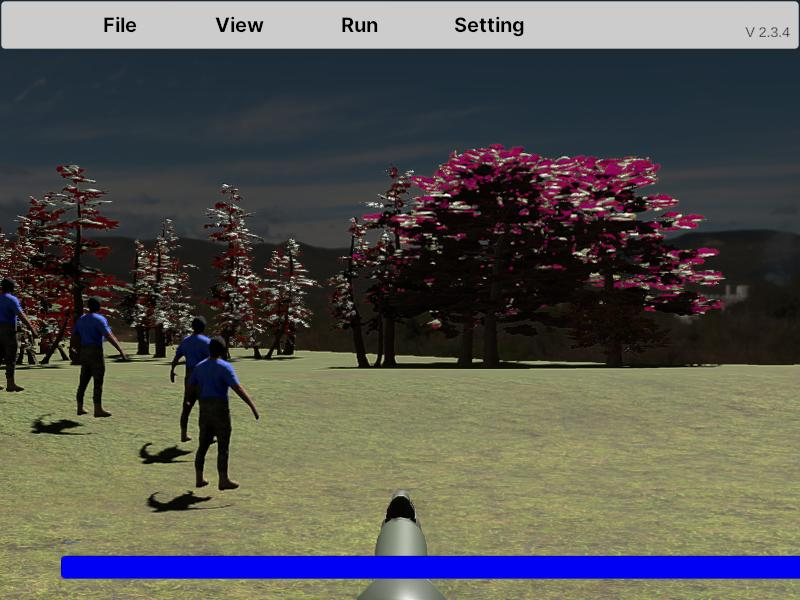Human: (181, 336, 259, 492), (169, 315, 231, 442), (68, 296, 126, 418), (0, 277, 35, 392)
